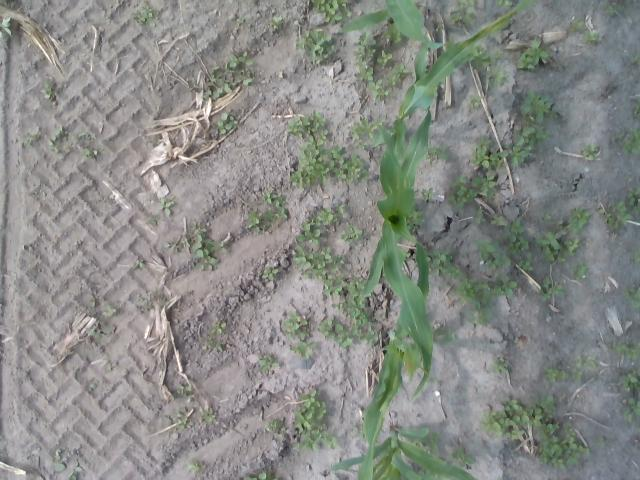Maize: (369, 0, 535, 166), (357, 105, 446, 401), (358, 242, 430, 480), (341, 1, 488, 61), (329, 425, 480, 480)
Weeds: (294, 246, 380, 346), (482, 394, 591, 469), (288, 130, 368, 188), (354, 29, 408, 99), (472, 125, 552, 170), (188, 51, 253, 100), (295, 390, 336, 451), (298, 204, 344, 246), (189, 221, 226, 271), (247, 189, 288, 231), (297, 29, 336, 63), (476, 236, 511, 273), (319, 314, 354, 348), (521, 88, 556, 122), (426, 247, 462, 280), (286, 109, 326, 136), (311, 0, 352, 24), (598, 201, 631, 230), (517, 38, 548, 68), (449, 174, 476, 207), (454, 278, 488, 304), (460, 46, 502, 66), (282, 311, 310, 340), (350, 118, 382, 143), (48, 126, 76, 153), (536, 232, 562, 261), (468, 300, 497, 325), (450, 0, 477, 26), (474, 172, 499, 198), (540, 278, 566, 302), (617, 128, 640, 155), (131, 4, 155, 27), (494, 274, 518, 296), (170, 407, 187, 438), (486, 66, 508, 88), (218, 110, 238, 134), (571, 207, 590, 232), (621, 366, 640, 391), (452, 446, 475, 466), (622, 283, 640, 308), (622, 398, 640, 423), (508, 234, 529, 255), (435, 327, 456, 347), (290, 342, 314, 358), (260, 354, 279, 373), (237, 471, 277, 480), (428, 144, 448, 162), (408, 207, 423, 230), (384, 22, 401, 42), (86, 327, 116, 338), (492, 356, 508, 376), (52, 448, 66, 470), (136, 294, 152, 313), (572, 261, 588, 280), (422, 432, 438, 451), (162, 237, 183, 251), (564, 238, 580, 256), (582, 144, 598, 162), (626, 186, 640, 206), (575, 354, 595, 368), (342, 226, 362, 240), (545, 369, 566, 381), (0, 16, 11, 38), (199, 408, 216, 422), (70, 461, 82, 480), (377, 50, 392, 65), (263, 266, 279, 280), (158, 199, 172, 215), (511, 218, 524, 234), (25, 131, 37, 148), (518, 258, 532, 272), (420, 188, 434, 202), (211, 322, 227, 334), (81, 146, 100, 156), (491, 216, 508, 227), (270, 15, 284, 28), (187, 462, 202, 474), (624, 348, 637, 361), (352, 426, 365, 439), (102, 304, 116, 316), (475, 210, 485, 226), (176, 384, 192, 394), (208, 342, 224, 352), (266, 419, 278, 432), (468, 95, 481, 107), (572, 20, 584, 33), (40, 85, 51, 99), (584, 30, 596, 42), (78, 132, 95, 140), (614, 340, 625, 352), (147, 214, 158, 226), (571, 369, 582, 380), (132, 260, 144, 270), (496, 0, 511, 7), (87, 295, 95, 306), (108, 362, 119, 370), (633, 250, 640, 262), (606, 6, 616, 14), (634, 203, 640, 216), (632, 56, 640, 64), (90, 384, 96, 391), (544, 214, 552, 219), (238, 18, 244, 24)
